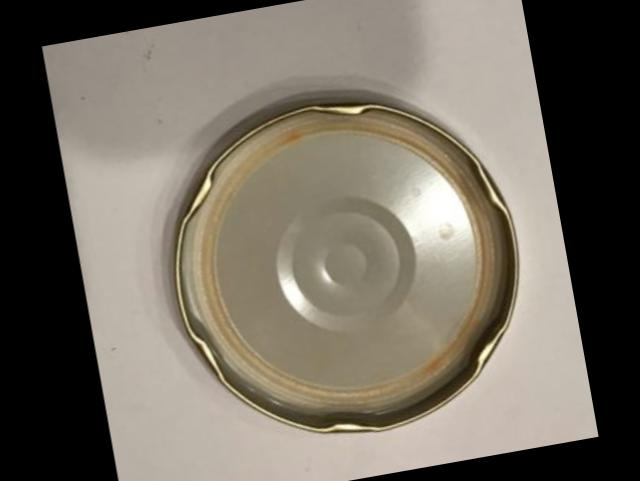metal: (178, 105, 519, 432)
